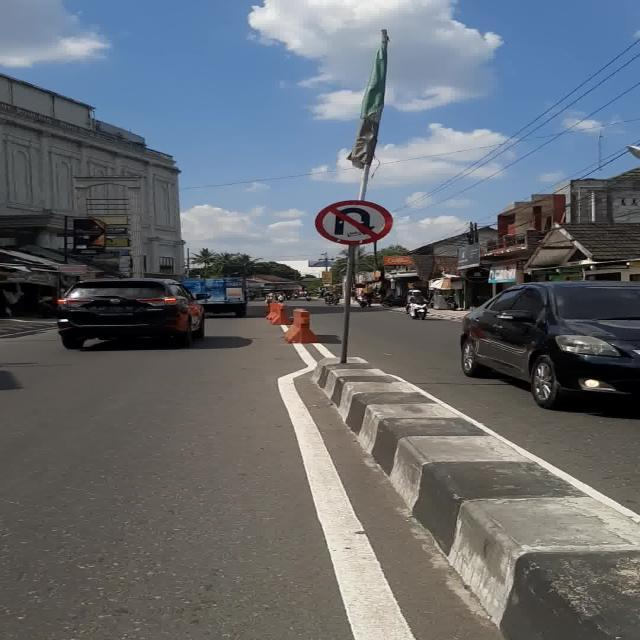Dilarang Putar Balik: (315, 200, 394, 246)
